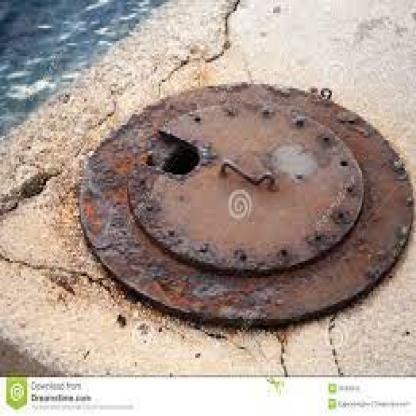closed manhole-not overflowing-: (77, 82, 416, 325)
